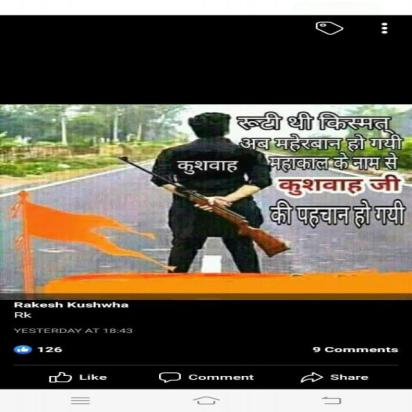Gun: (114, 156, 294, 258)
